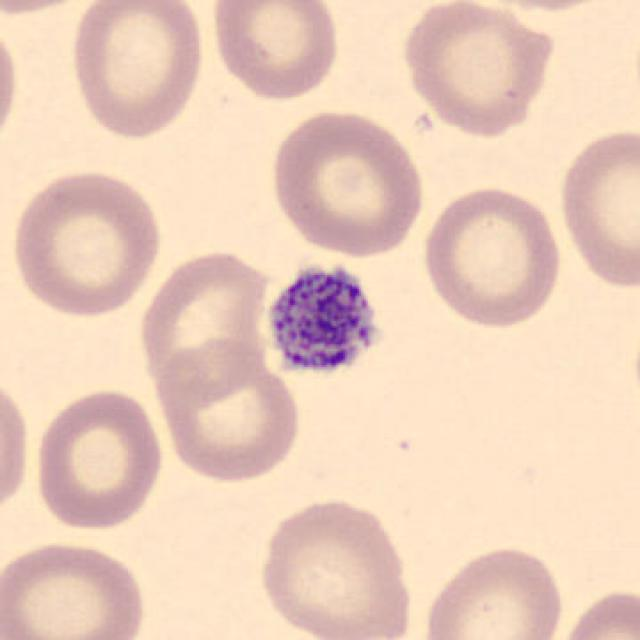Platelets: (262, 260, 389, 384)
RBC: (265, 106, 428, 261), (252, 492, 418, 640), (7, 166, 165, 321), (147, 337, 306, 485), (396, 0, 558, 139), (133, 242, 274, 400), (418, 182, 565, 332), (29, 382, 167, 532), (64, 0, 208, 141), (0, 536, 151, 640), (416, 541, 569, 640), (206, 0, 343, 104), (555, 121, 638, 292), (0, 368, 34, 524), (553, 583, 640, 640), (0, 14, 23, 157), (459, 0, 624, 14), (0, 0, 107, 18)
